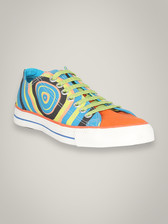shoes: (14, 57, 155, 149)
